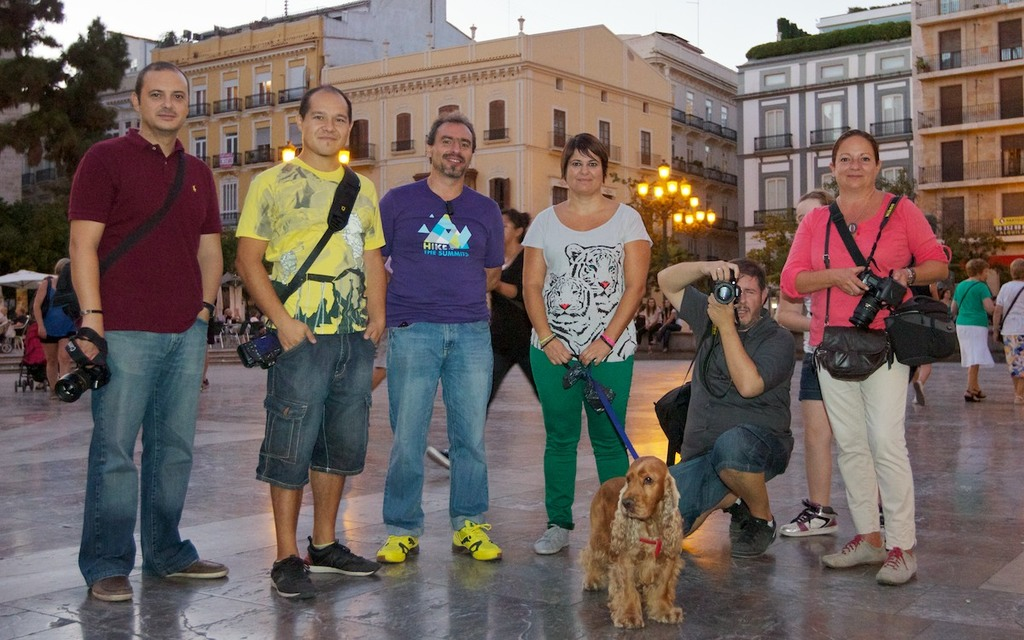Footwear: (256, 544, 360, 593), (305, 537, 378, 578), (734, 505, 779, 560), (447, 524, 505, 566), (822, 536, 889, 570), (875, 542, 922, 590), (783, 500, 835, 537), (168, 561, 235, 583), (91, 574, 134, 603), (378, 537, 420, 566), (534, 524, 567, 556), (422, 445, 454, 472)
